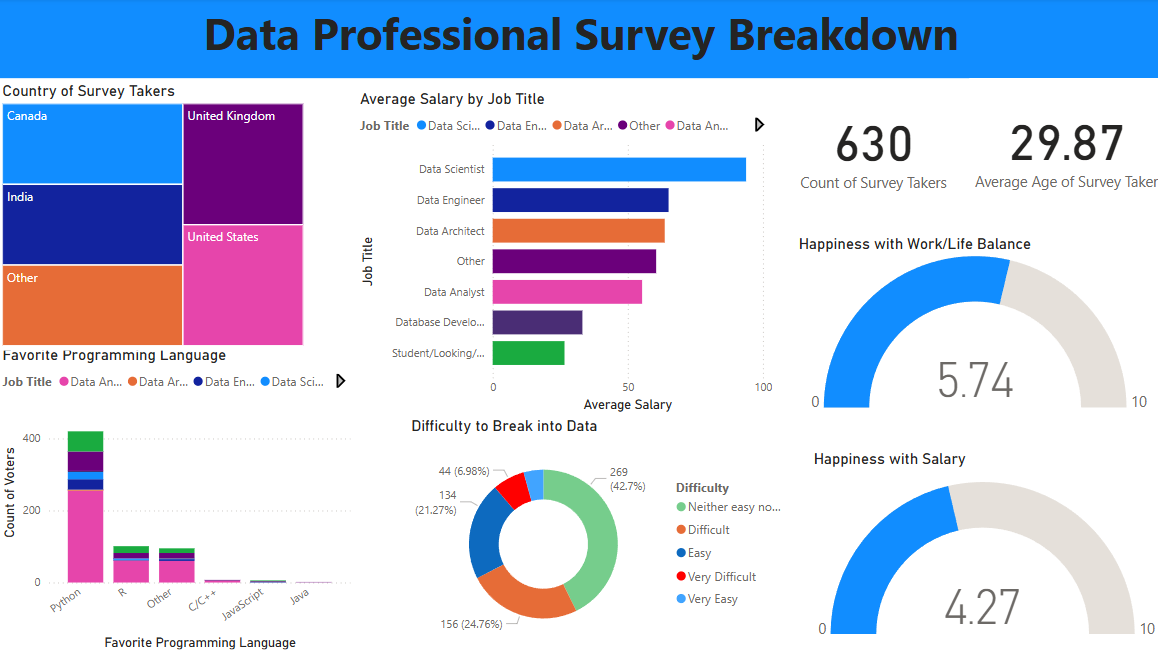

The dashboard page shown, as its layout file describes it:
{"tool":"powerbi","page":{"name":"Page 1","canvas":[1280,720],"ordinal":0},"visuals":[{"type":"textbox","box":[0,0,1280.3,87.8],"z":0},{"type":"card","fields":{"Values":["Count(Data Professional Survey.Unique ID)"]},"box":[874.1,89.2,174.3,149.6],"z":1000},{"type":"card","fields":{"Values":["Avg(Data Professional Survey.Q10 - Current Age)"]},"box":[1066.2,87.8,214.1,150.9],"z":2000},{"type":"barChart","title":"Average Salary by Job Title","fields":{"Category":["Data Professional Survey.Q1 - Which Title Best Fits your Current Role?.1"],"Y":["Avg(Data Professional Survey.Average Salary)"],"Series":["Data Professional Survey.Q1 - Which Title Best Fits your Current Role?.1"]},"box":[392.5,100.2,462.4,359.5],"z":3000},{"type":"columnChart","title":"Favorite Programming Language","fields":{"Category":["Data Professional Survey.Q5 - Favorite Programming Language.1"],"Y":["CountNonNull(Data Professional Survey.Unique ID)"],"Series":["Data Professional Survey.Q1 - Which Title Best Fits your Current Role?.1"]},"box":[0,381.5,392.5,338.9],"z":4000},{"type":"treemap","title":"Country of Survey Takers","fields":{"Group":["Data Professional Survey.Q11 - Which Country do you live in?.1"],"Values":["Count(Data Professional Survey.Q11 - Which Country do you live in?.1)"]},"box":[0,86.4,340.3,295],"z":5000},{"type":"gauge","title":"Happiness with Work/Life Balance","fields":{"Y":["Avg(Data Professional Survey.Q6 - How Happy are you in your Current Position with the following? (Work/Life Balance))"],"MinValue":["Min(Data Professional Survey.Q6 - How Happy are you in your Current Position with the following? (Work/Life Balance))"],"MaxValue":["Max(Data Professional Survey.Q6 - How Happy are you in your Current Position with the following? (Work/Life Balance))1"]},"box":[874.1,259.3,406.2,200.3],"z":5001},{"type":"gauge","title":"Happiness with Salary","fields":{"Y":["Avg(Data Professional Survey.Q6 - How Happy are you in your Current Position with the following? (Salary))"],"MinValue":["Min(Data Professional Survey.Q6 - How Happy are you in your Current Position with the following? (Salary))"],"MaxValue":["Max(Data Professional Survey.Q6 - How Happy are you in your Current Position with the following? (Salary))"]},"box":[890.6,495.4,389.7,225],"z":5002},{"type":"donutChart","title":"Difficulty to Break into Data","fields":{"Category":["Data Professional Survey.Q7 - How difficult was it for you to break into Data?"],"Y":["CountNonNull(Data Professional Survey.Q7 - How difficult was it for you to break into Data?)"]},"box":[448.7,459.7,425.4,260.7],"z":5003}]}

Visuals, with their boxes in screenshot pixels (x1, y1, x2, y2), scaled from the page's 1280x720 canvas onto the 1158x650 screenshot:
textbox: box(0, 0, 1157, 79)
card - Count(Data Professional Survey.Unique ID): box(791, 81, 948, 216)
card - Avg(Data Professional Survey.Q10 - Current Age): box(965, 79, 1157, 215)
"Average Salary by Job Title" barChart: box(355, 90, 773, 415)
"Favorite Programming Language" columnChart: box(0, 344, 355, 649)
"Country of Survey Takers" treemap: box(0, 78, 308, 344)
"Happiness with Work/Life Balance" gauge: box(791, 234, 1157, 415)
"Happiness with Salary" gauge: box(806, 447, 1157, 649)
"Difficulty to Break into Data" donutChart: box(406, 415, 791, 649)
